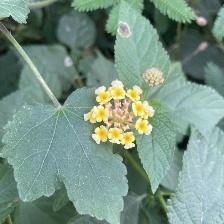common lanthana: (86, 78, 158, 151)
